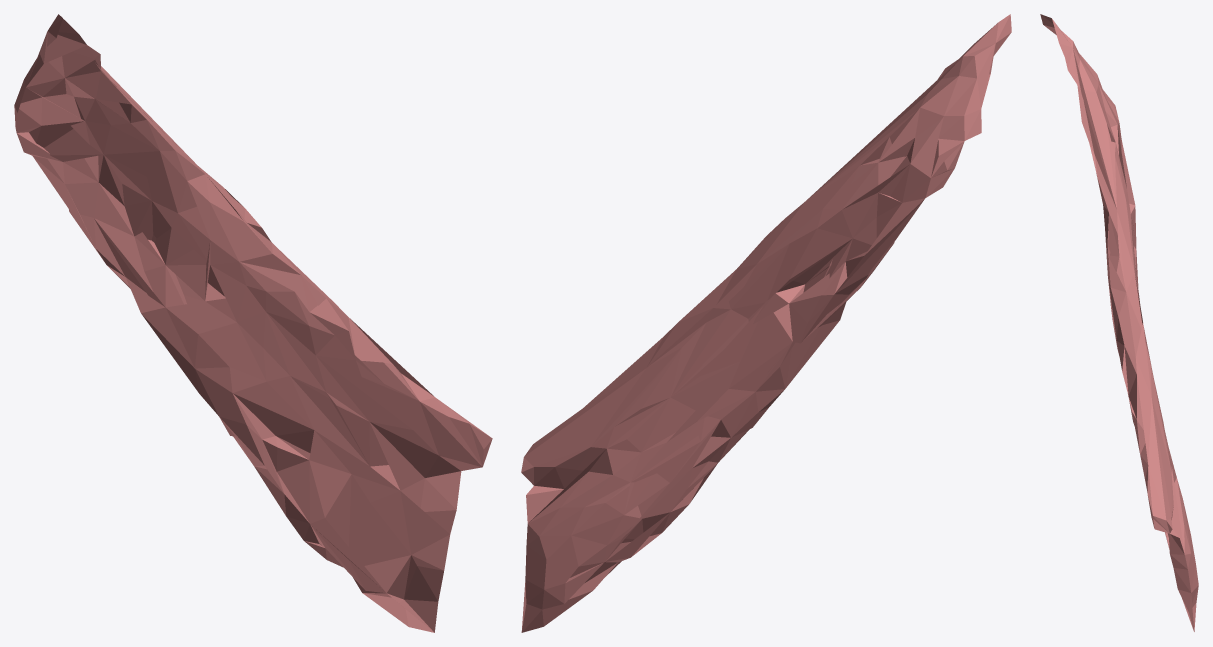
The model's file is Rhomboid_minor_muscle.l.glb.
The picture shows the model from 3 angles, left to right: view 1: azimuth 30°, elevation 25°; view 2: azimuth 150°, elevation 25°; view 3: azimuth 270°, elevation 25°; orthographic projection. The views are drawn at different scales.
Visible parts, largest first — view 1: Rhomboid_minor_muscle.l; view 2: Rhomboid_minor_muscle.l; view 3: Rhomboid_minor_muscle.l.
Boxes of the visible parts, box(x1,y1,x2,y2) form: Rhomboid_minor_muscle.l: box(14, 14, 492, 632); Rhomboid_minor_muscle.l: box(521, 14, 1011, 632); Rhomboid_minor_muscle.l: box(1040, 14, 1198, 631).
Bounding box in the file's own units: 0.0643 × 0.0966 × 0.0291.
